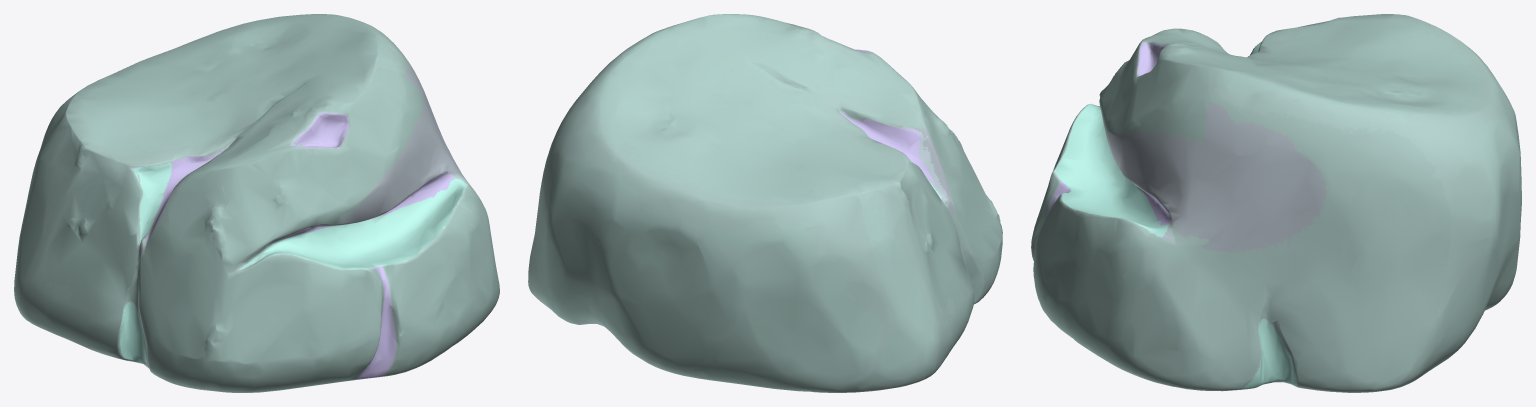
File: rock5.glb
3 views of the same model, side by side, from view 1: azimuth 30°, elevation 25°; view 2: azimuth 150°, elevation 25°; view 3: azimuth 270°, elevation 25° (orthographic). The views are drawn at different scales.
Visible parts, largest first — view 1: Mesh_0; view 2: Mesh_0; view 3: Mesh_0.
Boxes of the visible parts, <box> form: Mesh_0: <box>14,14,499,392</box>; Mesh_0: <box>528,14,1002,392</box>; Mesh_0: <box>1031,14,1521,392</box>.
Bounding box in the file's own units: 1.9 × 1.13 × 1.84.
1 material, 1 textured.
